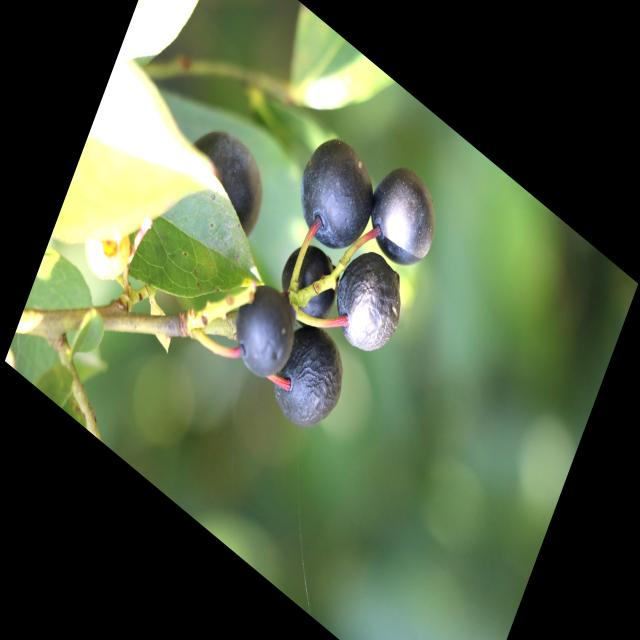blueberry: (170, 107, 280, 255), (283, 118, 387, 272), (318, 227, 420, 378), (259, 304, 357, 454), (216, 257, 312, 401), (354, 148, 452, 288), (267, 224, 352, 346)
blueberry-unripe: (79, 209, 136, 293)
